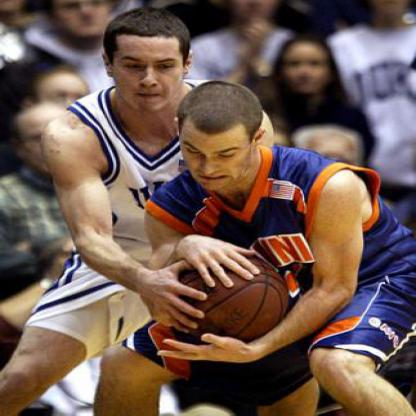face: (113, 13, 187, 114), (181, 98, 257, 192), (36, 71, 92, 136), (284, 38, 331, 97), (60, 1, 110, 39)
